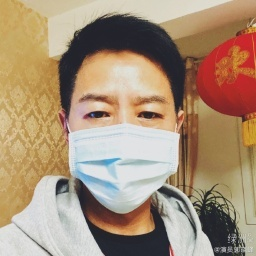correctlyWear: (57, 79, 184, 214)
